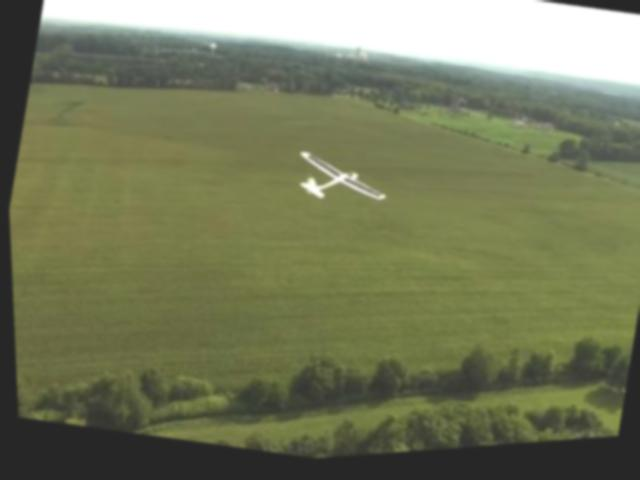uav: (277, 138, 397, 239)
